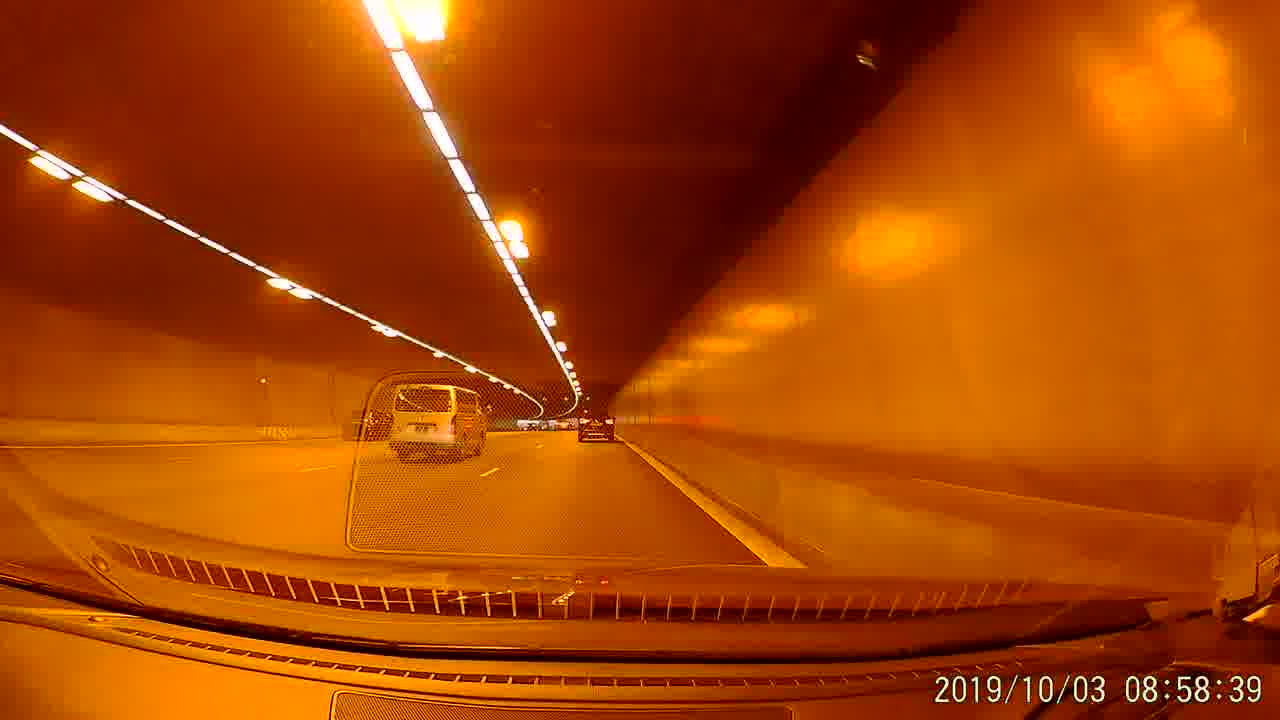car: (341, 407, 391, 442), (576, 408, 616, 444)
